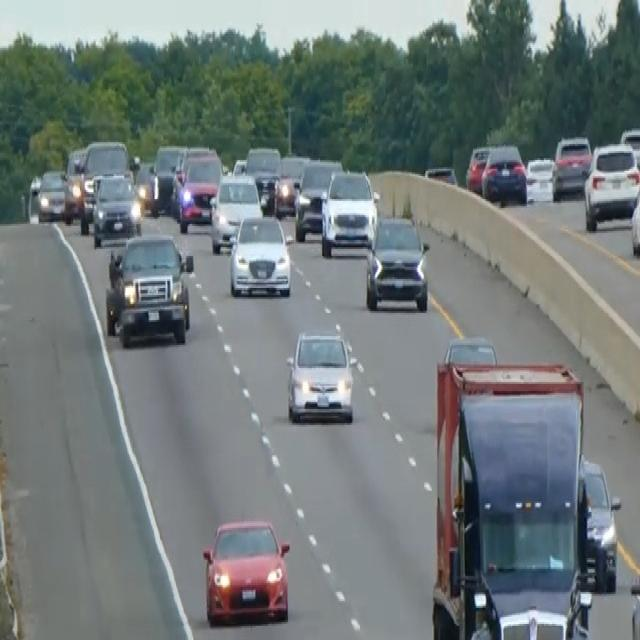car: (201, 516, 291, 626), (285, 327, 354, 425), (364, 211, 429, 313), (577, 455, 621, 590), (228, 212, 291, 298), (320, 167, 378, 256), (583, 141, 639, 231), (78, 139, 130, 231), (209, 170, 263, 252), (294, 156, 342, 240), (91, 171, 142, 245), (177, 149, 223, 231), (481, 143, 527, 205), (148, 142, 186, 214), (551, 133, 592, 199), (244, 144, 280, 210), (274, 153, 309, 217), (62, 146, 87, 220), (36, 167, 67, 221), (524, 155, 555, 201), (464, 142, 491, 192), (134, 158, 158, 214), (620, 124, 639, 180), (630, 170, 639, 258), (26, 172, 41, 222), (424, 163, 457, 185)
jeep: (103, 230, 195, 348)
lorry: (429, 336, 592, 638)
